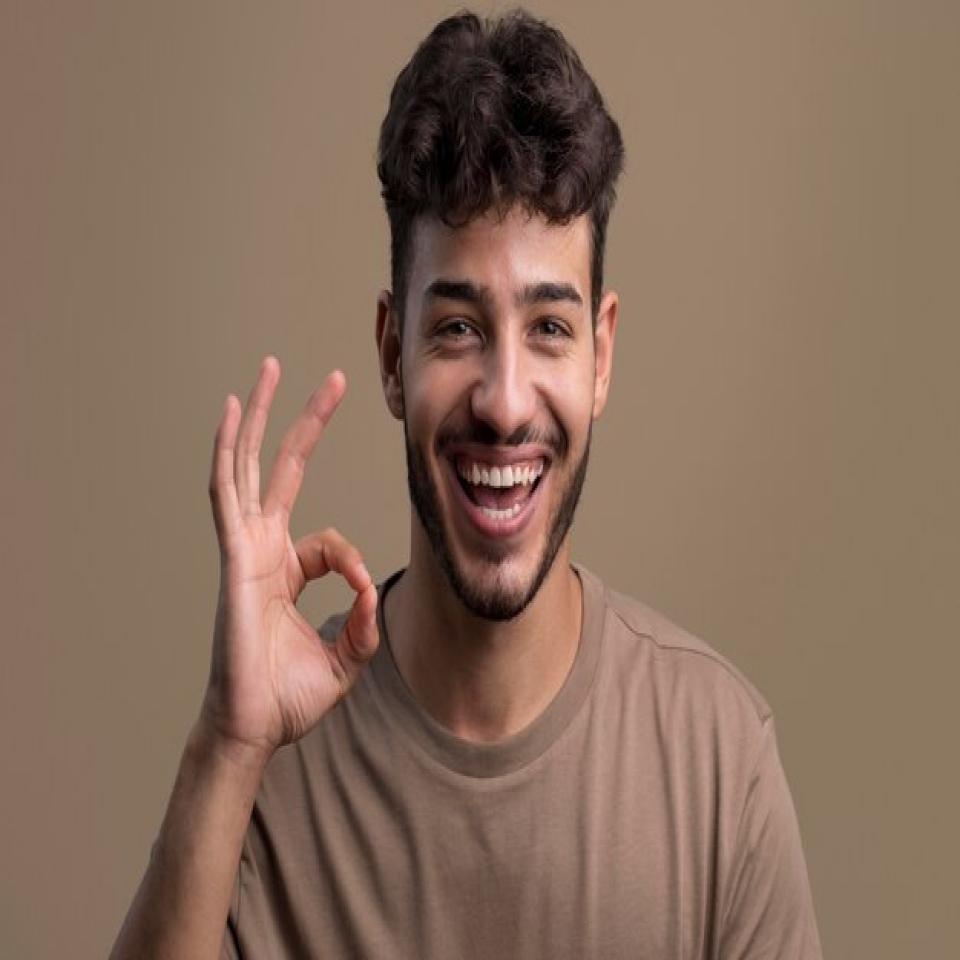Happiness: (403, 199, 598, 626)
